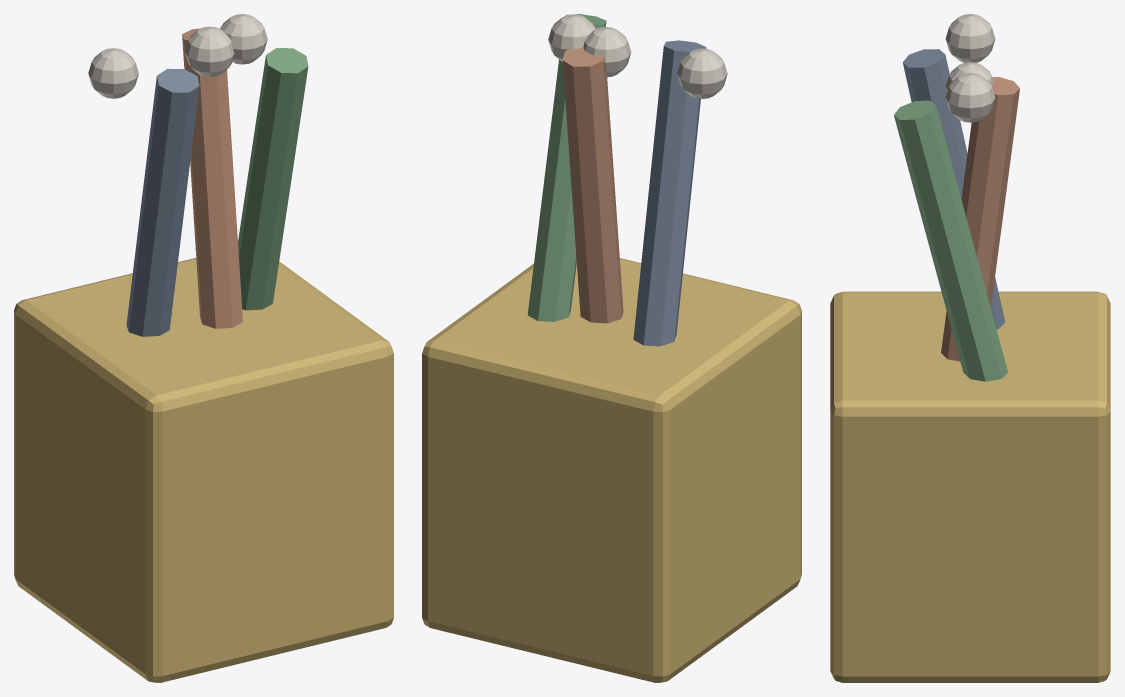
The model's file is office_porta_canetas_sala.glb.
The picture shows the model from 3 angles, left to right: view 1: azimuth 30°, elevation 25°; view 2: azimuth 150°, elevation 25°; view 3: azimuth 270°, elevation 25°; orthographic projection.
Visible parts, largest first — view 1: OFFICE_PortaCanetasSala_Copo, OFFICE_PortaCanetasSala_Caneta0, OFFICE_PortaCanetasSala_Caneta2, OFFICE_PortaCanetasSala_Caneta1, OFFICE_PortaCanetasSala_Ponta0, OFFICE_PortaCanetasSala_Ponta2, OFFICE_PortaCanetasSala_Ponta1; view 2: OFFICE_PortaCanetasSala_Copo, OFFICE_PortaCanetasSala_Caneta0, OFFICE_PortaCanetasSala_Caneta1, OFFICE_PortaCanetasSala_Caneta2, OFFICE_PortaCanetasSala_Ponta0, OFFICE_PortaCanetasSala_Ponta2, OFFICE_PortaCanetasSala_Ponta1; view 3: OFFICE_PortaCanetasSala_Copo, OFFICE_PortaCanetasSala_Caneta2, OFFICE_PortaCanetasSala_Caneta1, OFFICE_PortaCanetasSala_Caneta0, OFFICE_PortaCanetasSala_Ponta1, OFFICE_PortaCanetasSala_Ponta0, OFFICE_PortaCanetasSala_Ponta2.
Part boxes in pixels (<box>): OFFICE_PortaCanetasSala_Copo: <box>14,258,393,682</box>; OFFICE_PortaCanetasSala_Caneta0: <box>126,68,199,336</box>; OFFICE_PortaCanetasSala_Caneta2: <box>238,48,308,310</box>; OFFICE_PortaCanetasSala_Caneta1: <box>182,28,242,328</box>; OFFICE_PortaCanetasSala_Ponta0: <box>88,48,138,98</box>; OFFICE_PortaCanetasSala_Ponta2: <box>184,26,234,76</box>; OFFICE_PortaCanetasSala_Ponta1: <box>220,14,267,64</box>; OFFICE_PortaCanetasSala_Copo: <box>422,258,801,682</box>; OFFICE_PortaCanetasSala_Caneta0: <box>633,40,706,346</box>; OFFICE_PortaCanetasSala_Caneta1: <box>562,47,623,323</box>; OFFICE_PortaCanetasSala_Caneta2: <box>527,14,606,321</box>; OFFICE_PortaCanetasSala_Ponta0: <box>677,48,727,98</box>; OFFICE_PortaCanetasSala_Ponta2: <box>583,27,631,77</box>; OFFICE_PortaCanetasSala_Ponta1: <box>548,14,595,61</box>; OFFICE_PortaCanetasSala_Copo: <box>830,291,1110,682</box>; OFFICE_PortaCanetasSala_Caneta2: <box>894,100,1007,381</box>; OFFICE_PortaCanetasSala_Caneta1: <box>941,77,1019,361</box>; OFFICE_PortaCanetasSala_Caneta0: <box>902,49,1005,329</box>; OFFICE_PortaCanetasSala_Ponta1: <box>945,73,995,122</box>; OFFICE_PortaCanetasSala_Ponta0: <box>945,14,995,62</box>; OFFICE_PortaCanetasSala_Ponta2: <box>945,62,993,91</box>.
Size of the model in its own units: 0.09 by 0.2025 by 0.09.
